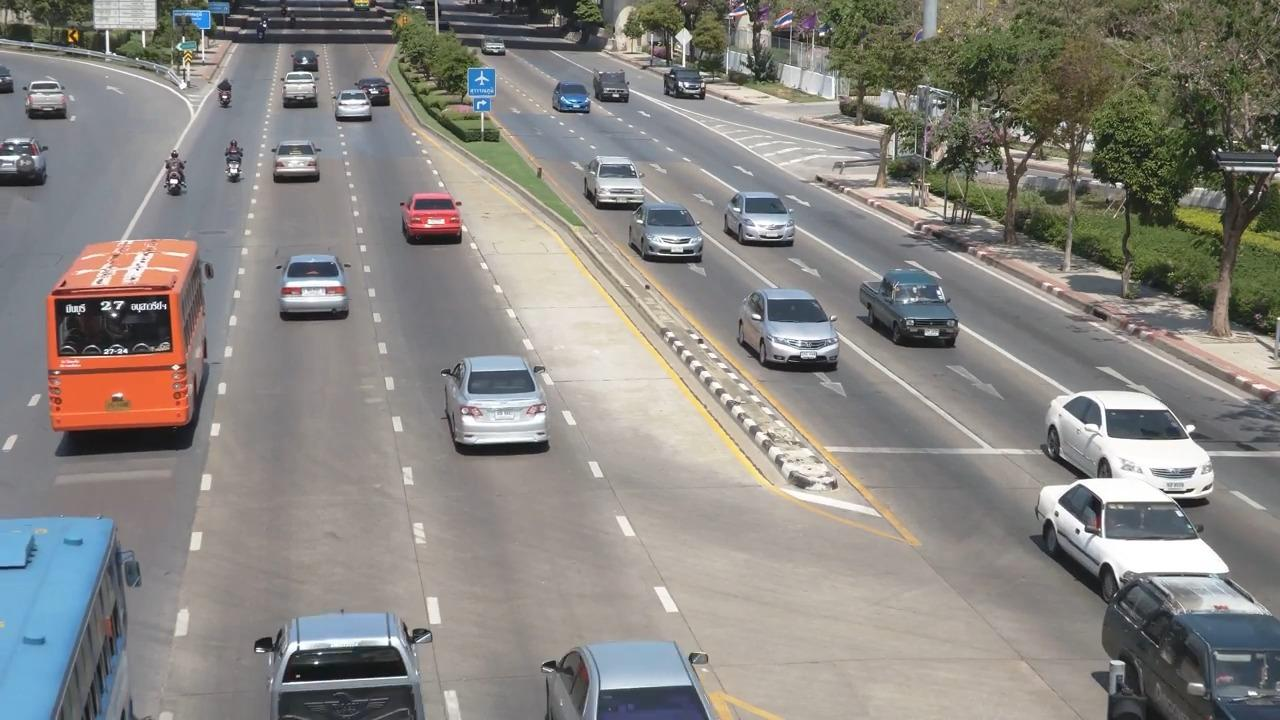CAR: (1087, 555, 1280, 720), (1023, 464, 1246, 605), (1042, 366, 1222, 501), (248, 598, 437, 720), (426, 342, 576, 473), (526, 625, 725, 720), (849, 261, 980, 359), (725, 277, 846, 382), (395, 173, 485, 260), (620, 191, 714, 272), (277, 249, 358, 336), (720, 185, 804, 254), (578, 150, 659, 218), (19, 72, 86, 136), (264, 134, 326, 202), (653, 61, 718, 116), (278, 71, 333, 114), (540, 79, 597, 119), (361, 70, 412, 114), (332, 90, 379, 134), (587, 65, 637, 104), (286, 48, 331, 81)
HGV_BUS: (35, 227, 215, 470), (0, 503, 147, 720)
MOTOR: (144, 143, 189, 214), (205, 133, 258, 192), (206, 74, 239, 113)
